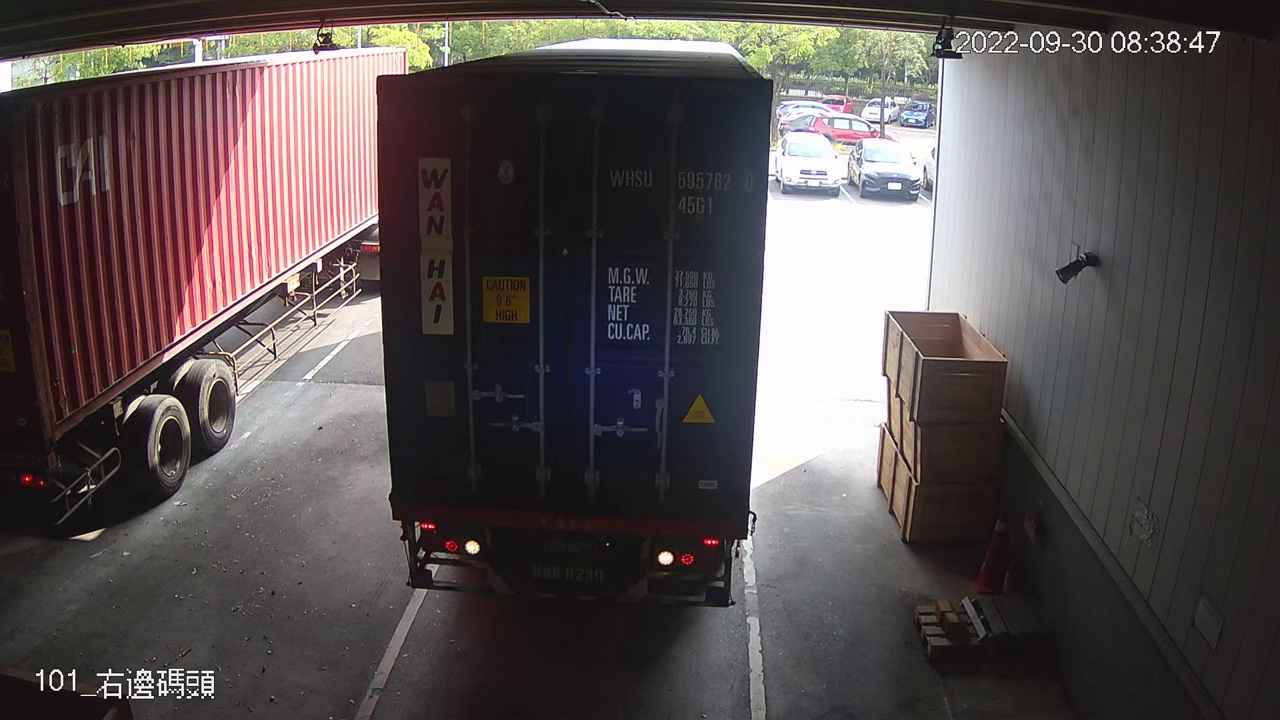container: (604, 161, 760, 220)
